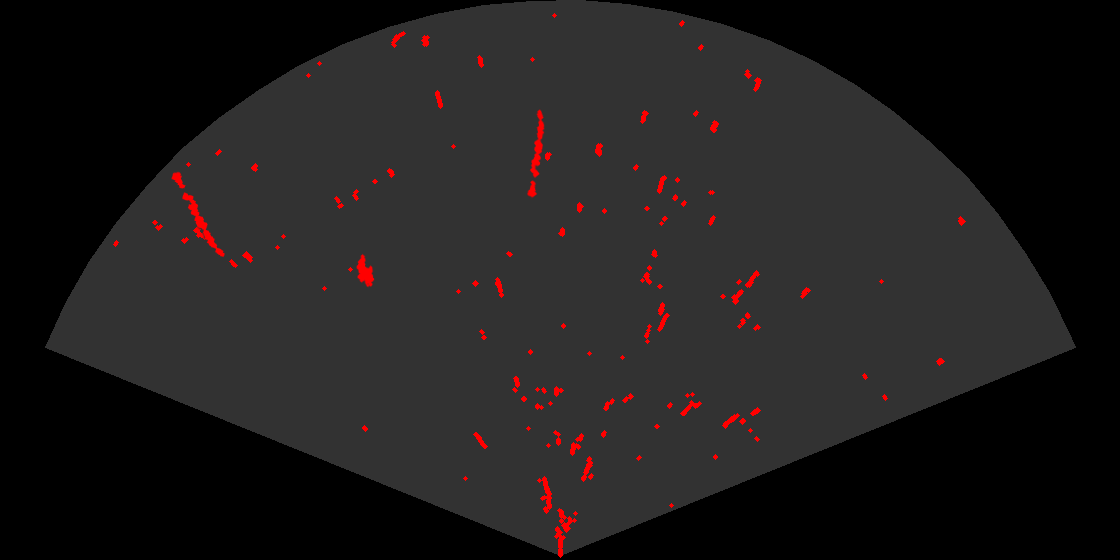AUV: (355, 252, 376, 289)
chain: (170, 170, 226, 258), (526, 108, 546, 200)
